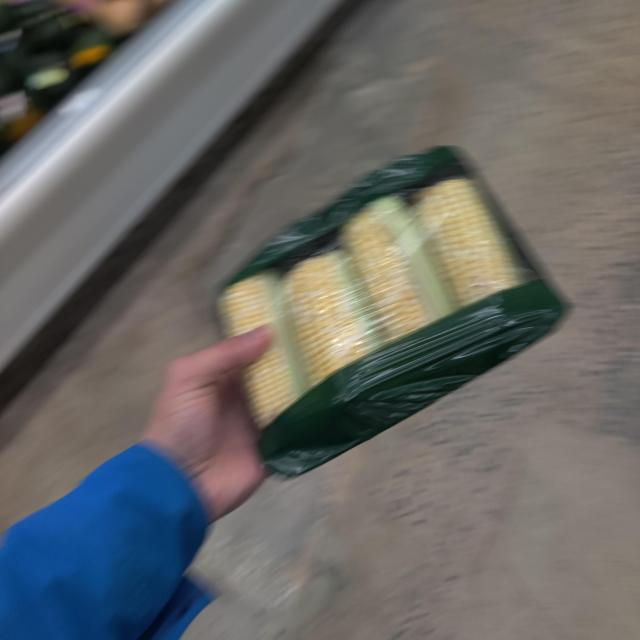Corn: (203, 149, 574, 472)
